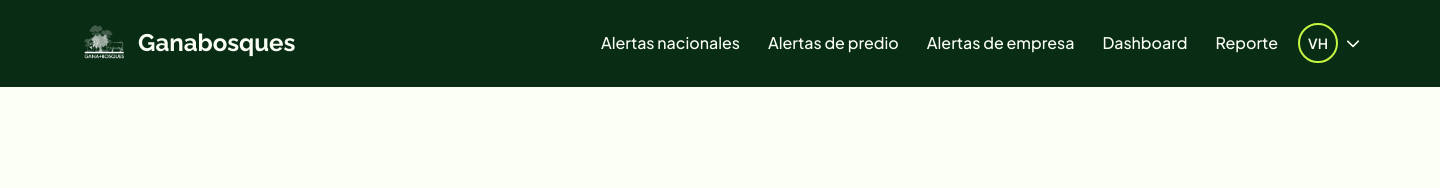
Test: Header › user dropdown › falls back to the username when there is no given name
Click the button "VH" at (1329, 43), box [1298,23,1360,63]
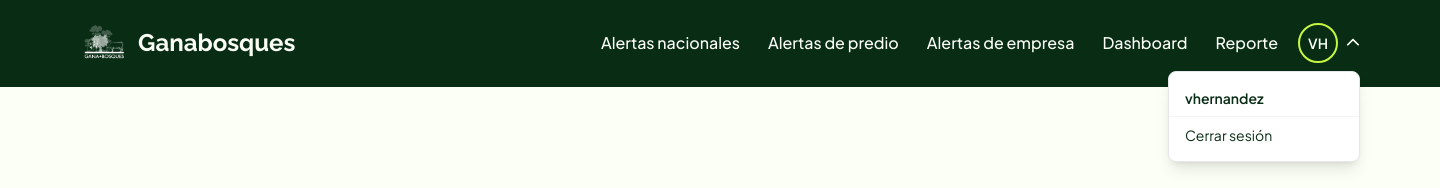
Expected: the text "vhernandez" is shown, [1185,89,1264,107]
